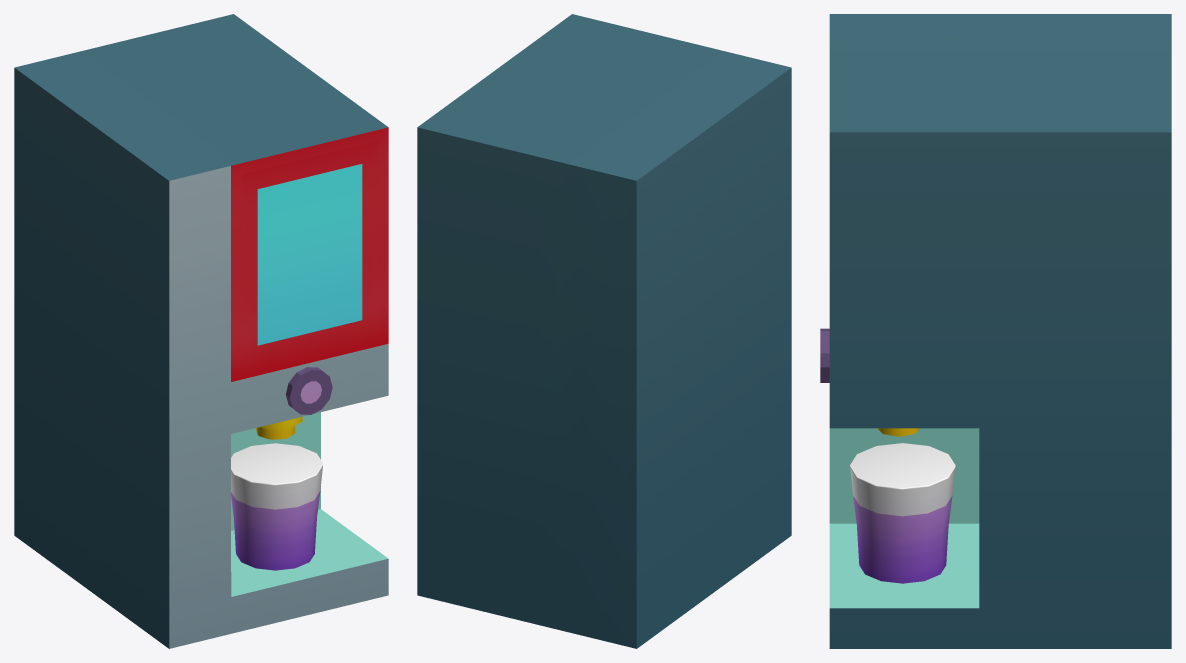
The model's file is Drink_Machine_lv1.fbx.
3 views of the same model, side by side, from view 1: azimuth 30°, elevation 25°; view 2: azimuth 150°, elevation 25°; view 3: azimuth 270°, elevation 25° (orthographic). The views are drawn at different scales.
Parts seen in each view (by area): view 1: Drink_Machine_lv1; view 2: Drink_Machine_lv1; view 3: Drink_Machine_lv1.
Part boxes in pixels (x1,y1,x2,y2): Drink_Machine_lv1: (14,14,388,648); Drink_Machine_lv1: (417,14,791,648); Drink_Machine_lv1: (820,14,1171,648).
Bounding box in the file's own units: 74.96 × 153 × 94.05.
1 material, 1 textured.
